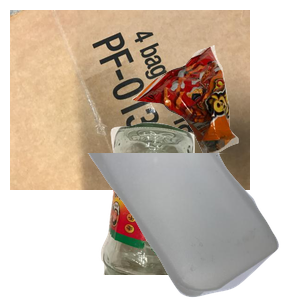cardboard: (10, 10, 250, 190)
glass: (98, 120, 286, 300)
plastic: (84, 153, 300, 300)
trash: (130, 43, 300, 190)
